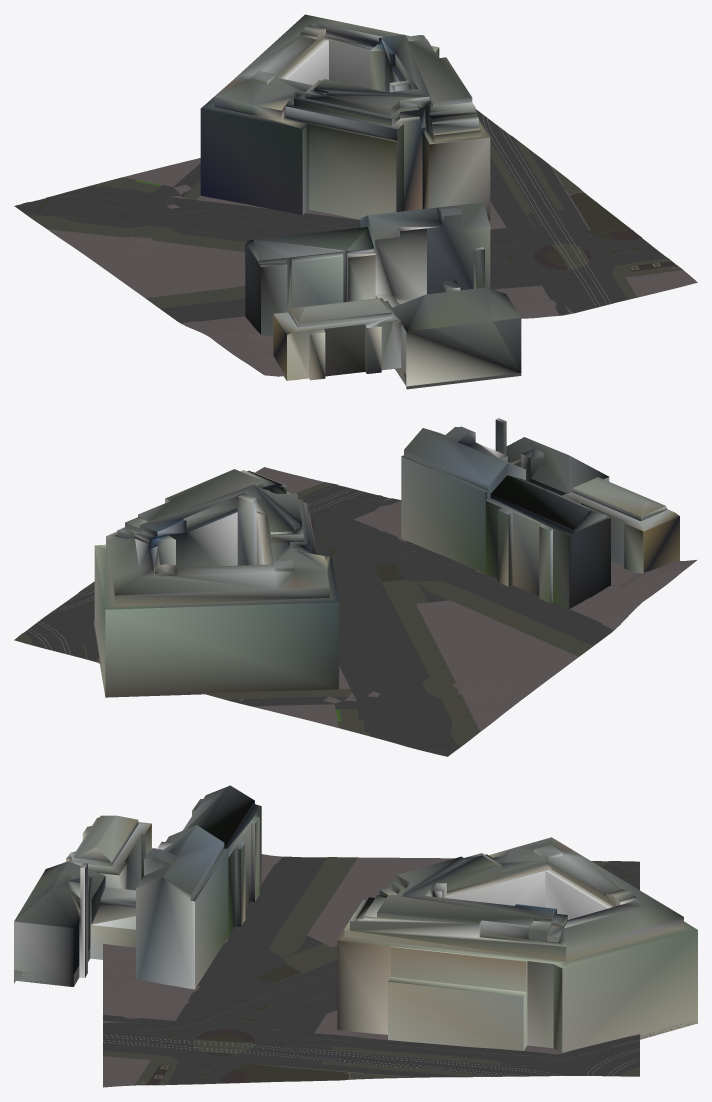
3 views of the same model, one above another, from view 1: azimuth 30°, elevation 25°; view 2: azimuth 150°, elevation 25°; view 3: azimuth 270°, elevation 25° (orthographic). The views are drawn at different scales.
Parts seen in each view (by area): view 1: c_m10_p01; view 2: c_m10_p01; view 3: c_m10_p01.
Boxes of the visible parts, <box> form: c_m10_p01: <box>14,14,697,389</box>; c_m10_p01: <box>14,418,697,756</box>; c_m10_p01: <box>14,785,697,1087</box>.
Bounding box in the file's own units: 128 × 36.13 × 163.
